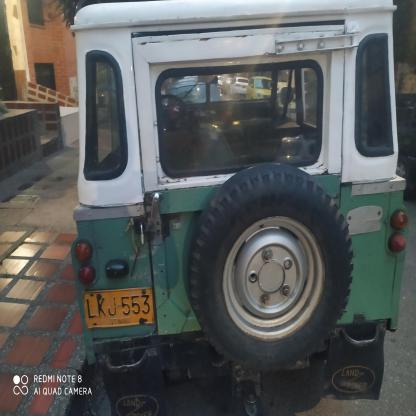placa: (78, 285, 158, 330)
